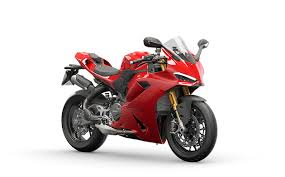motorcycle: (56, 35, 218, 161)
